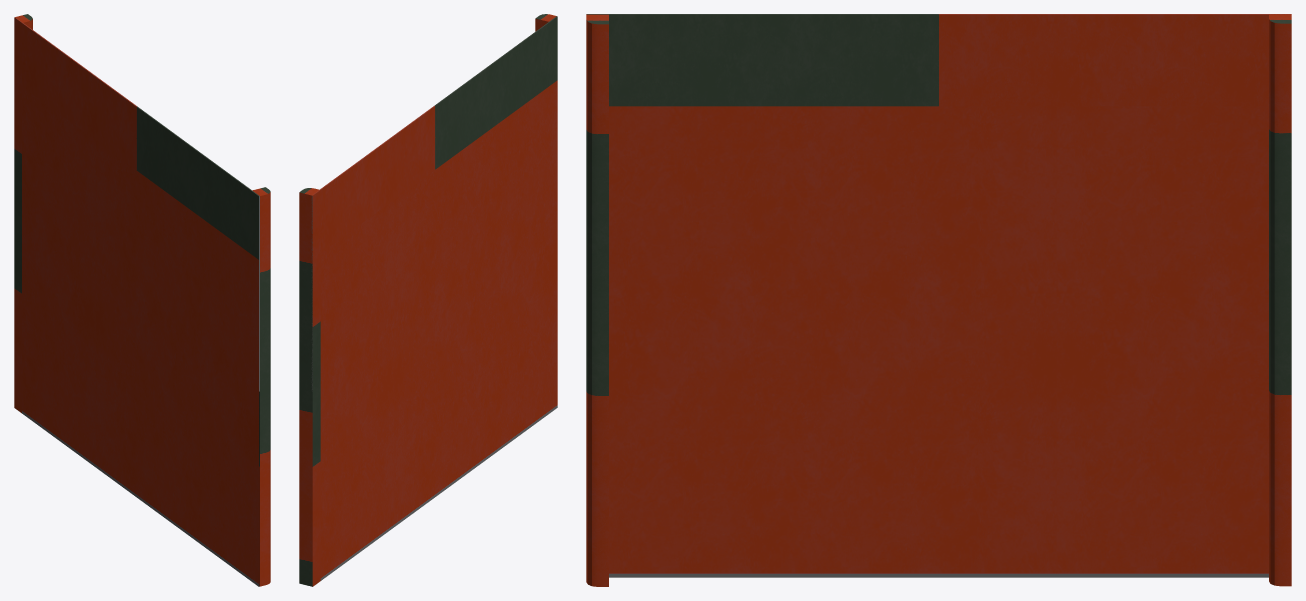
Rendered from kitchenwall_3.fbx.
3 renders of one model, left to right at view 1: azimuth 30°, elevation 25°; view 2: azimuth 150°, elevation 25°; view 3: azimuth 270°, elevation 25°, orthographic. The views are drawn at different scales.
Parts seen in each view (by area): view 1: polySurface216; view 2: polySurface216; view 3: polySurface216.
Part boxes in pixels (box(x1,y1,x2,y2)): polySurface216: box(14, 14, 270, 586); polySurface216: box(299, 14, 557, 586); polySurface216: box(586, 14, 1291, 586).
Bounding box in the file's own units: 0.1005 × 2.58 × 2.92.
